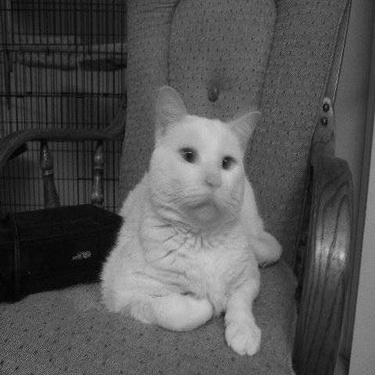cat: (84, 82, 289, 360)
